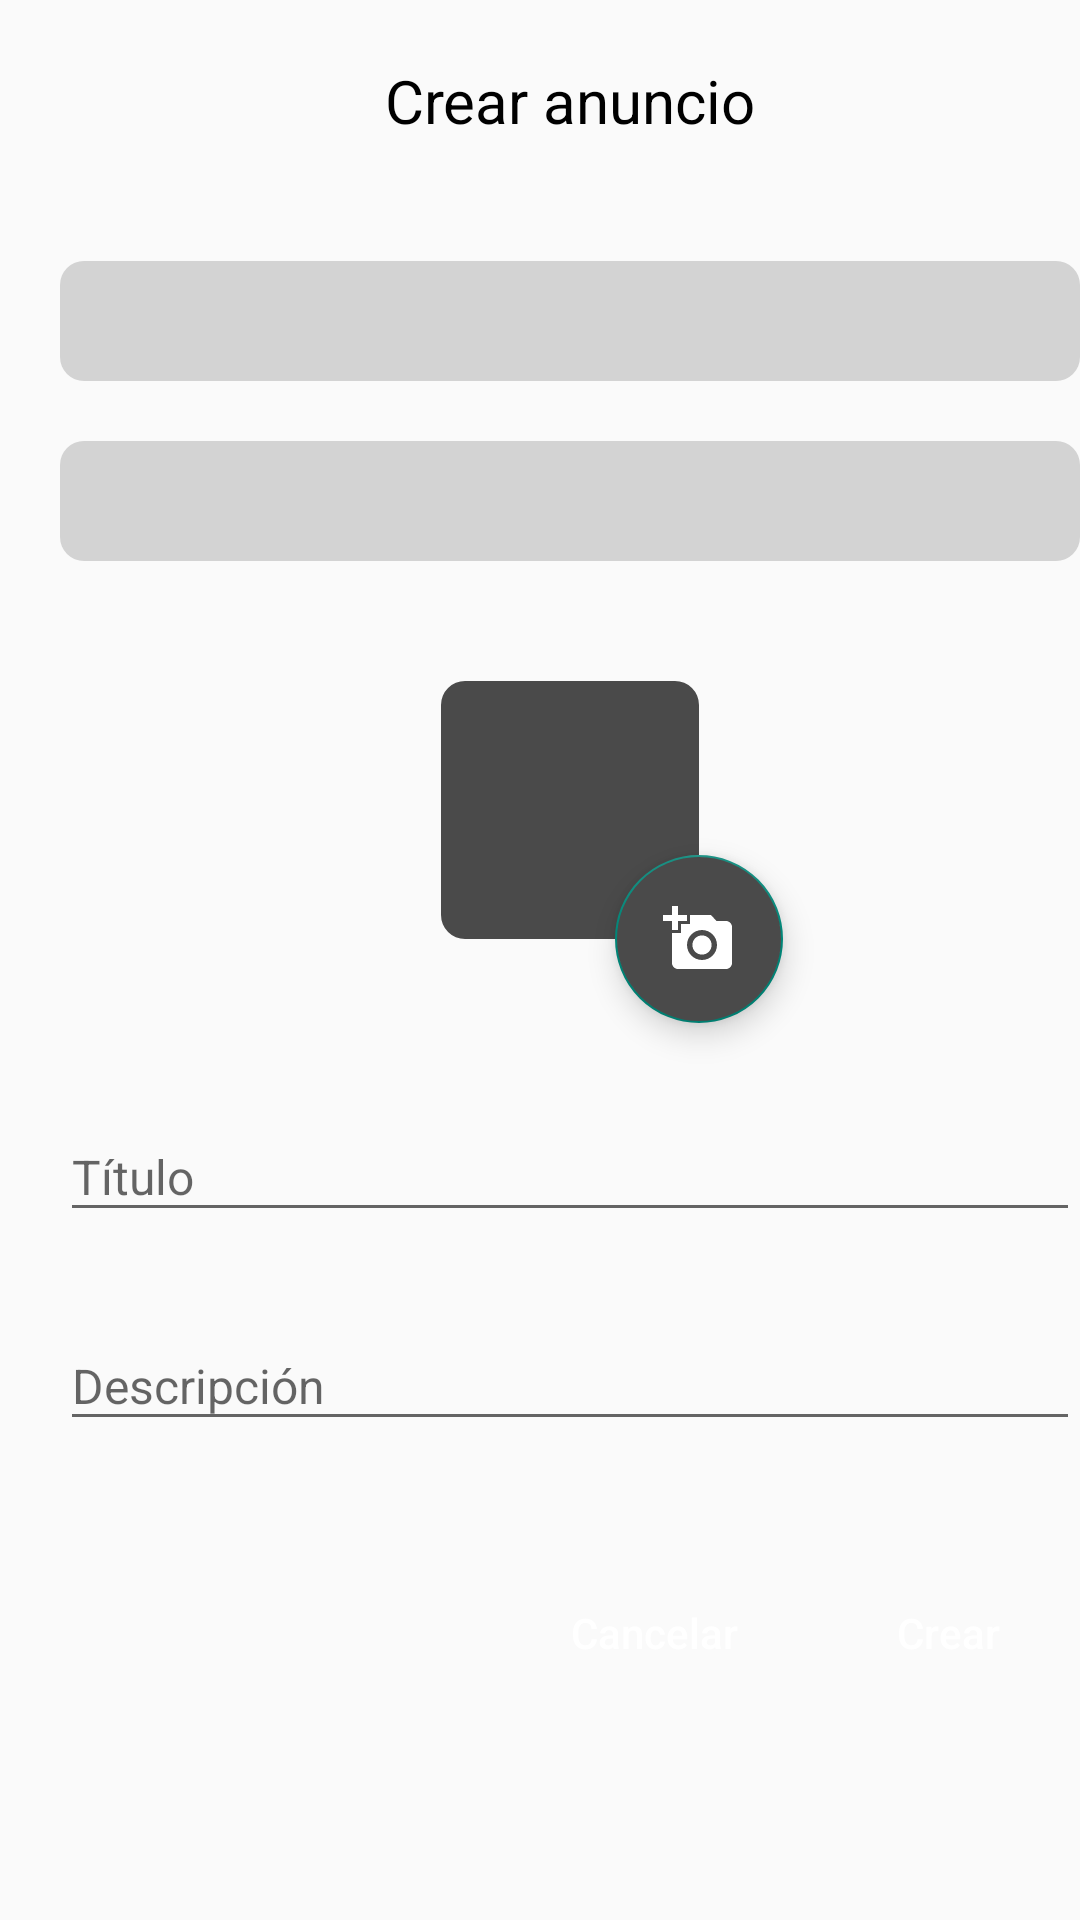

Locate icon controls on the screen. Image size 1080 × 1920, boxes as {"left": x1, "top": y1, "right": x2, "bottom": y2}.
add photo: {"left": 615, "top": 855, "right": 783, "bottom": 1023}
